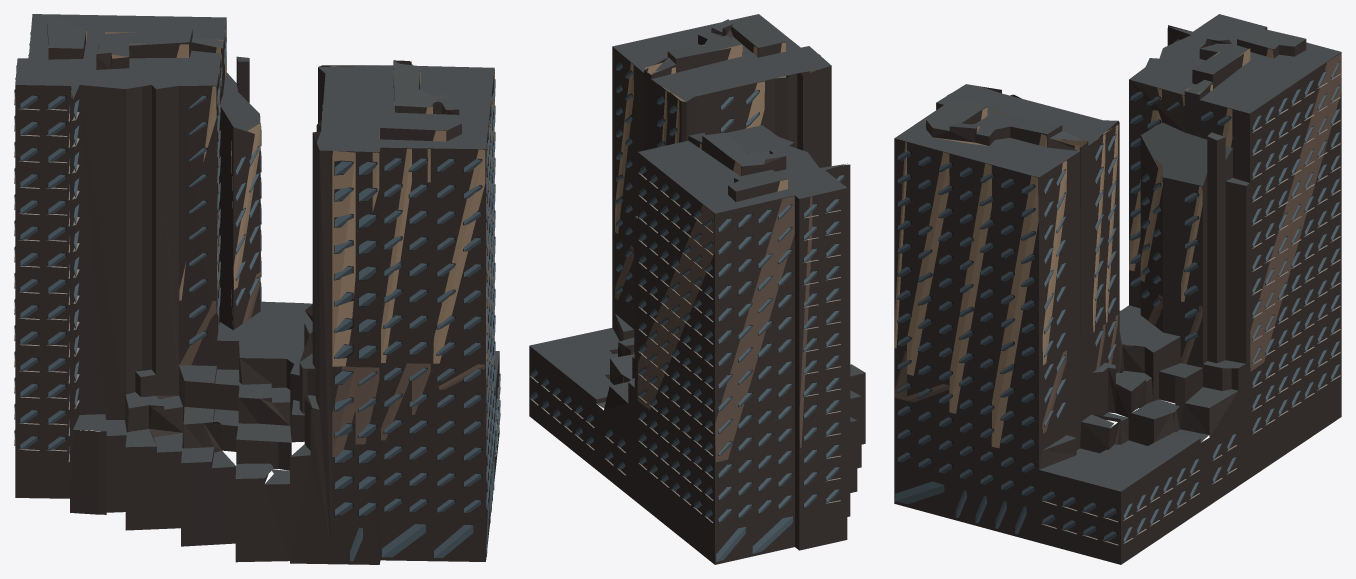
Rendered from grasweg-116.lod1.glb.
3 renders of one model, left to right at view 1: azimuth 30°, elevation 25°; view 2: azimuth 150°, elevation 25°; view 3: azimuth 270°, elevation 25°, orthographic. The views are drawn at different scales.
Parts seen in each view (by area): view 1: grasweg-116; view 2: grasweg-116; view 3: grasweg-116.
Boxes of the visible parts, x1,y1,x2,y2 form: grasweg-116: (14,14,500,564); grasweg-116: (529,14,865,564); grasweg-116: (894,14,1341,564).
Size of the model in its own units: 52.25 by 49.97 by 53.31.
